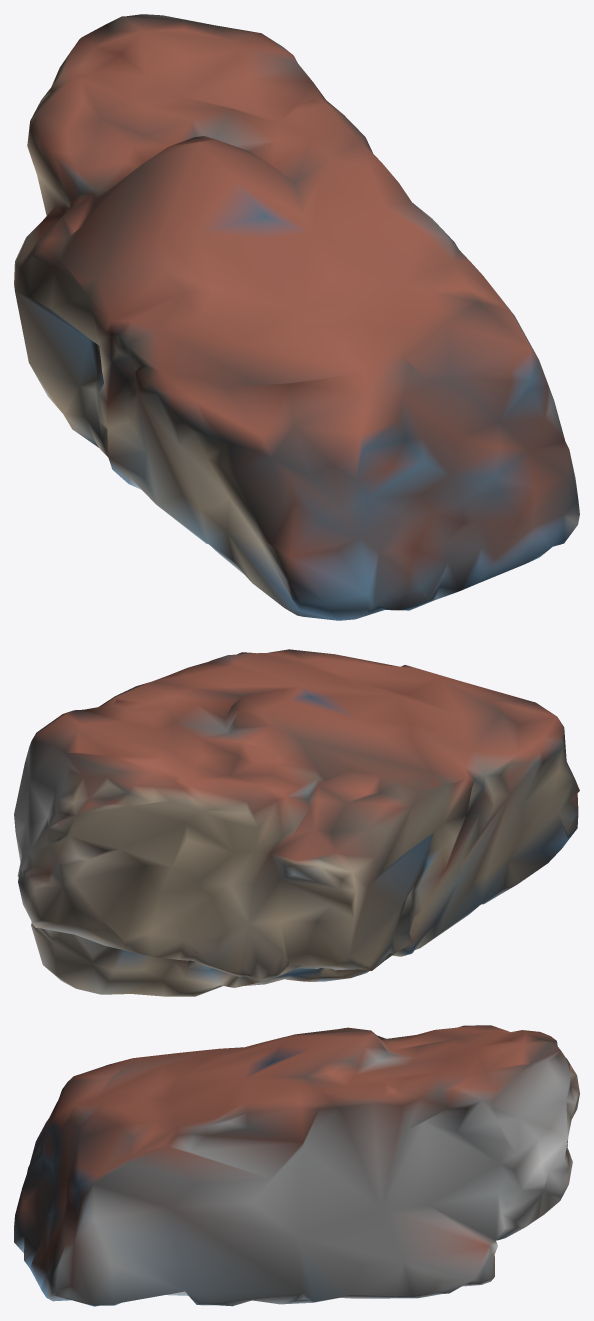
File: rock_07.glb
3 views of the same model, one above another, from view 1: azimuth 30°, elevation 25°; view 2: azimuth 150°, elevation 25°; view 3: azimuth 270°, elevation 25° (orthographic). The views are drawn at different scales.
Parts seen in each view (by area): view 1: rock_07; view 2: rock_07; view 3: rock_07.
Part boxes in pixels (x1=…): rock_07: x1=14, y1=14, x2=579, y2=620; rock_07: x1=14, y1=649, x2=579, y2=996; rock_07: x1=14, y1=1025, x2=579, y2=1306.
Size of the model in its own units: 0.1679 by 0.1434 by 0.3198.
